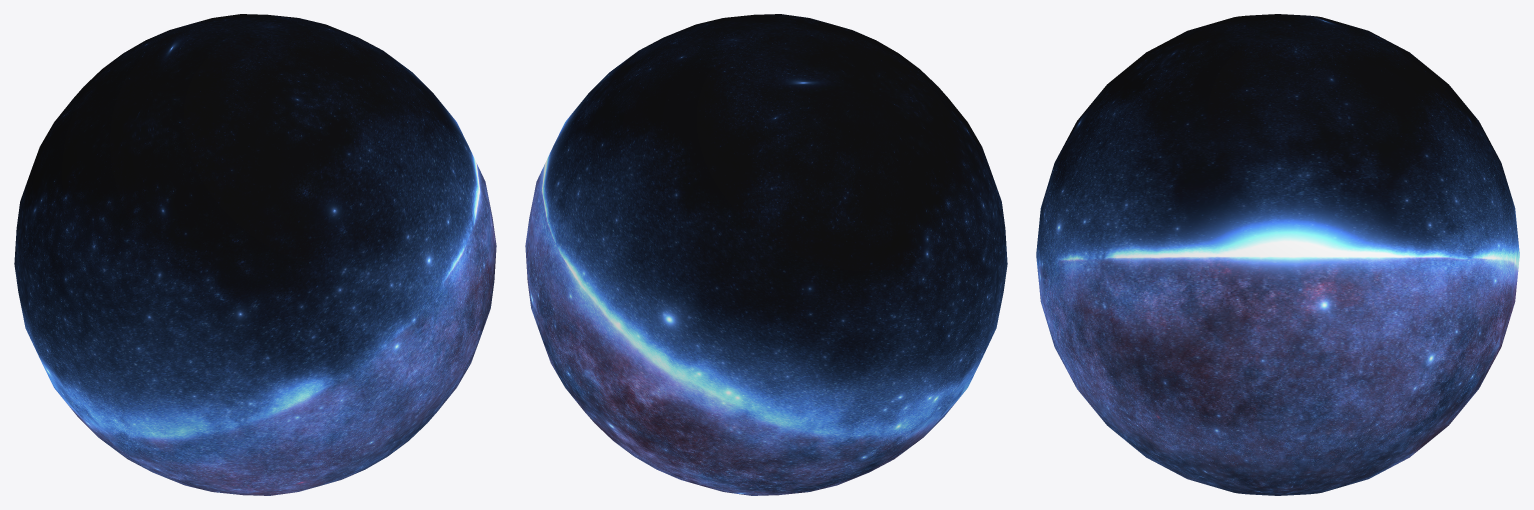
The model's file is ciel.glb.
The picture shows the model from 3 angles, left to right: view 1: azimuth 30°, elevation 25°; view 2: azimuth 150°, elevation 25°; view 3: azimuth 270°, elevation 25°; orthographic projection.
Bounding box in the file's own units: 2 × 2 × 2.
1 material, 1 textured.
